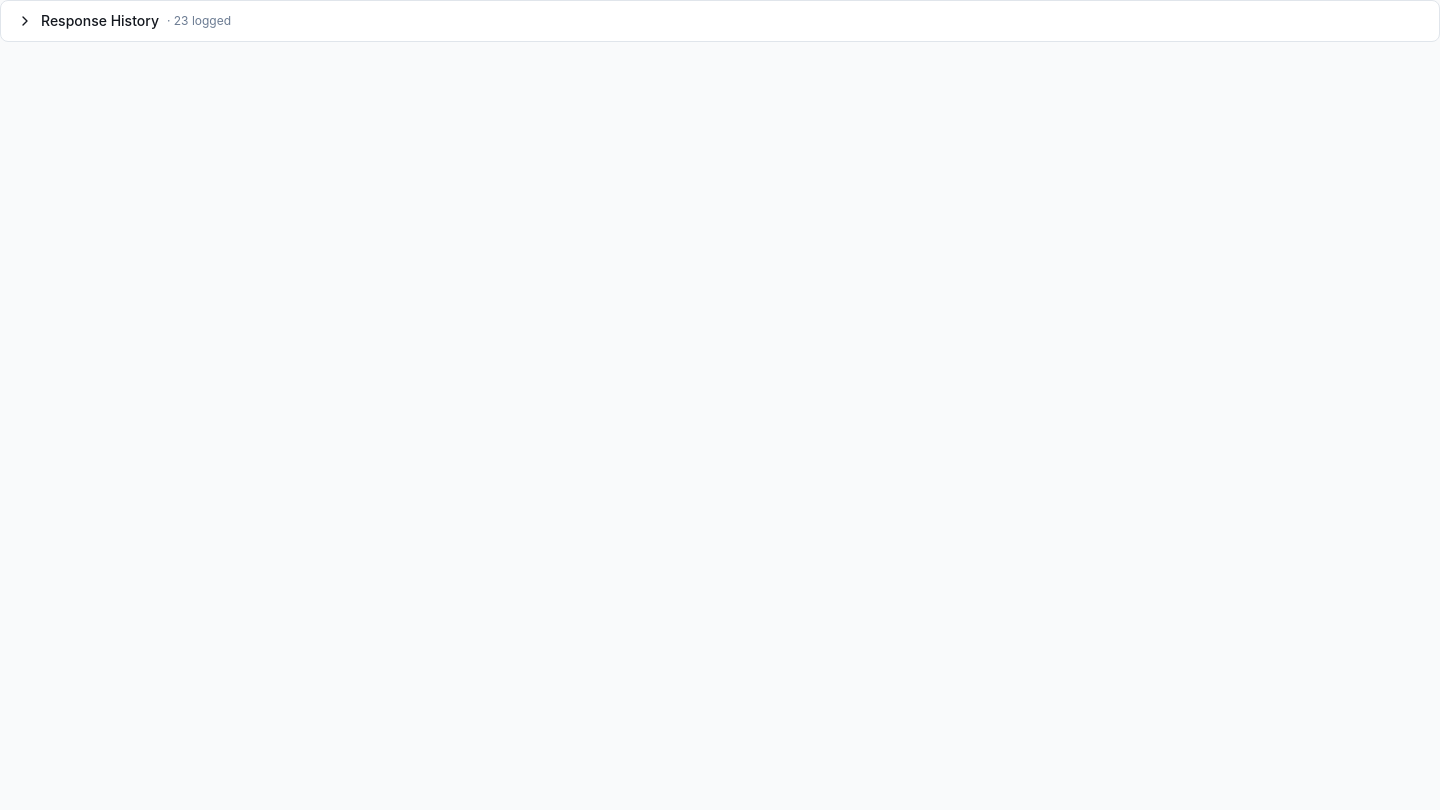
ResponseHistoryPanel — table, filters and paging › drops the pagination bar once the result set fits on one page
Click the button "Response History · 23 logged" at x=100, y=20, box [1,1,1439,41]
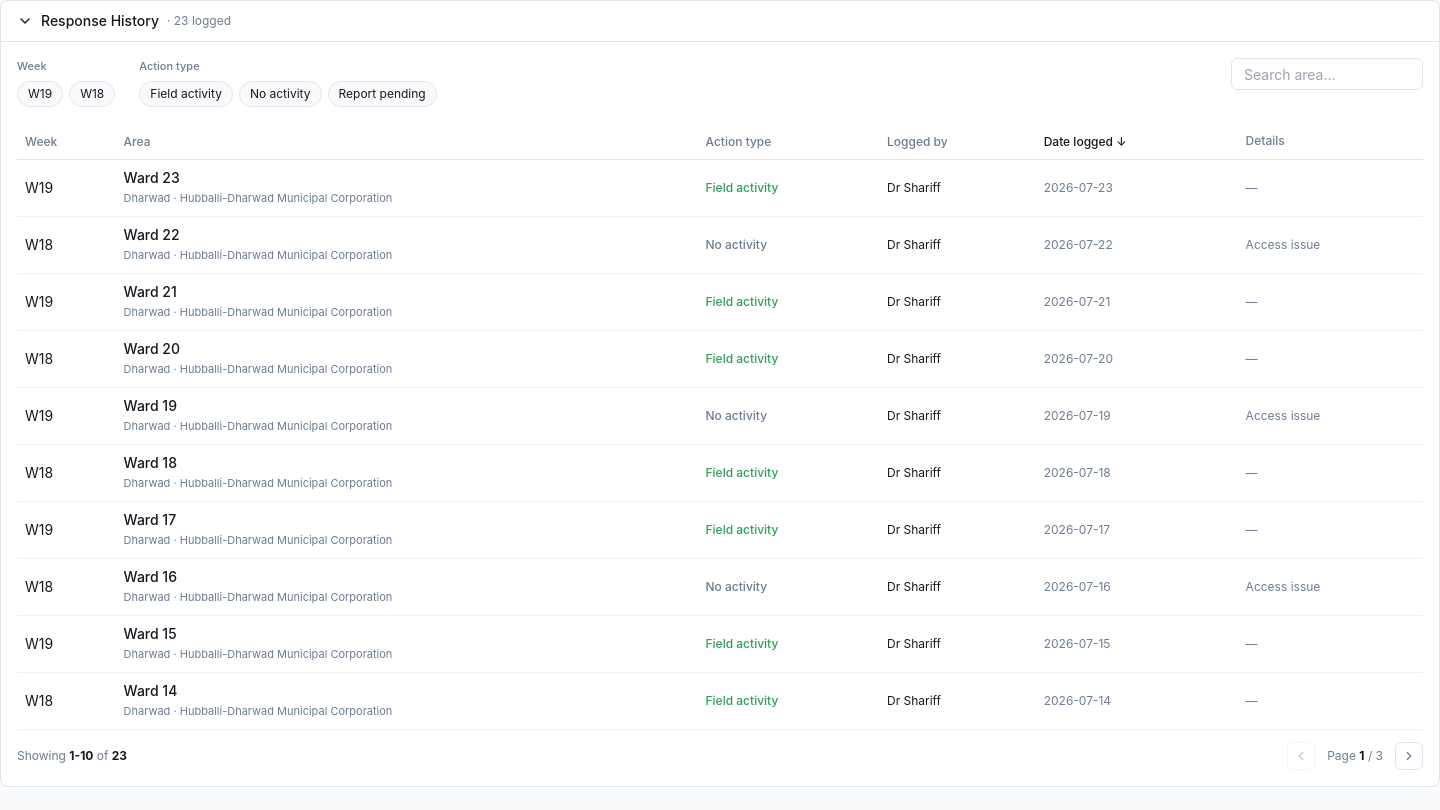
Check: the text "Showing 1-10 of 23" is shown, box [17,748,127,764]
Type "Ward 07" into the field named "Search areas" at x=1327, y=74, box [1231,58,1423,90]
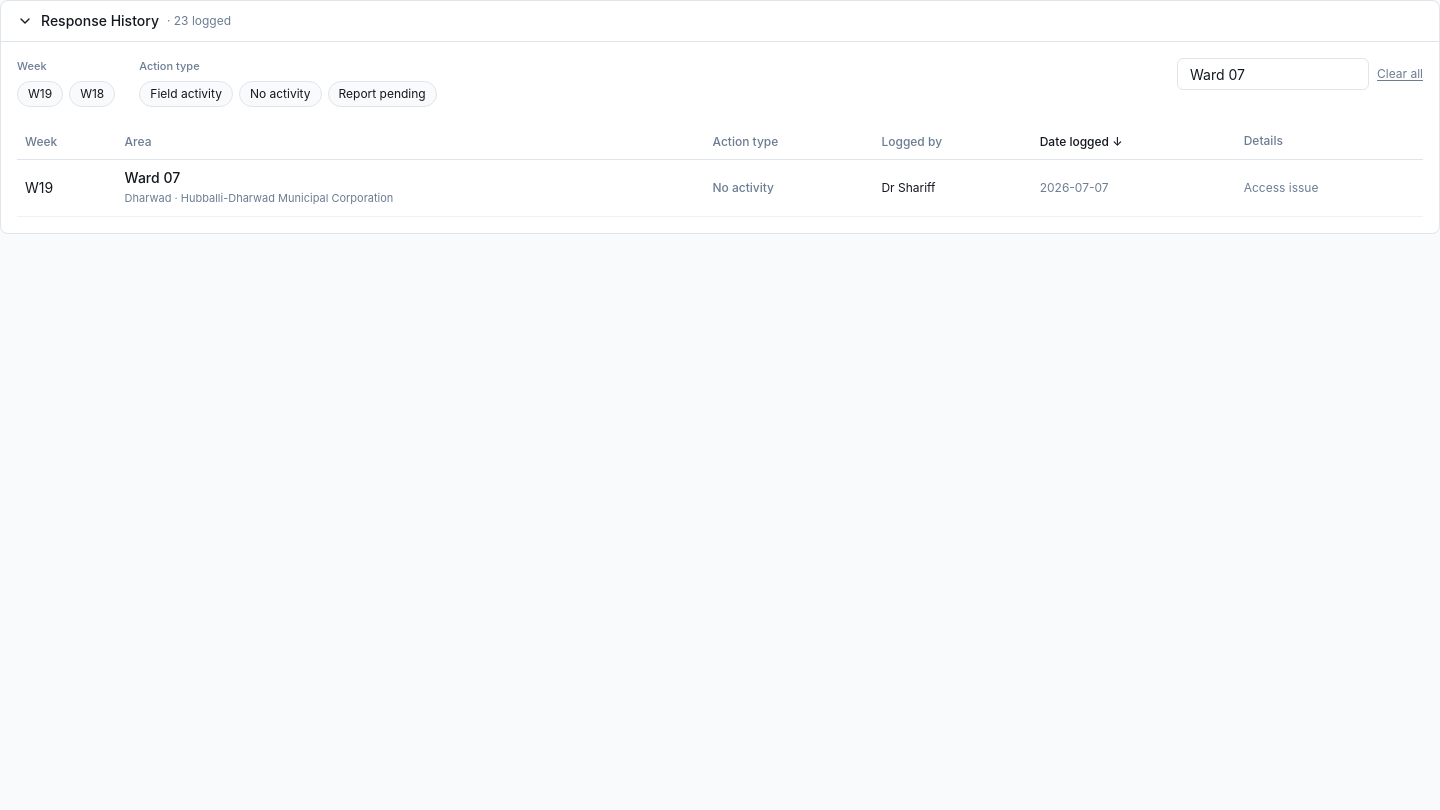
Check: the text "Showing" is gone
